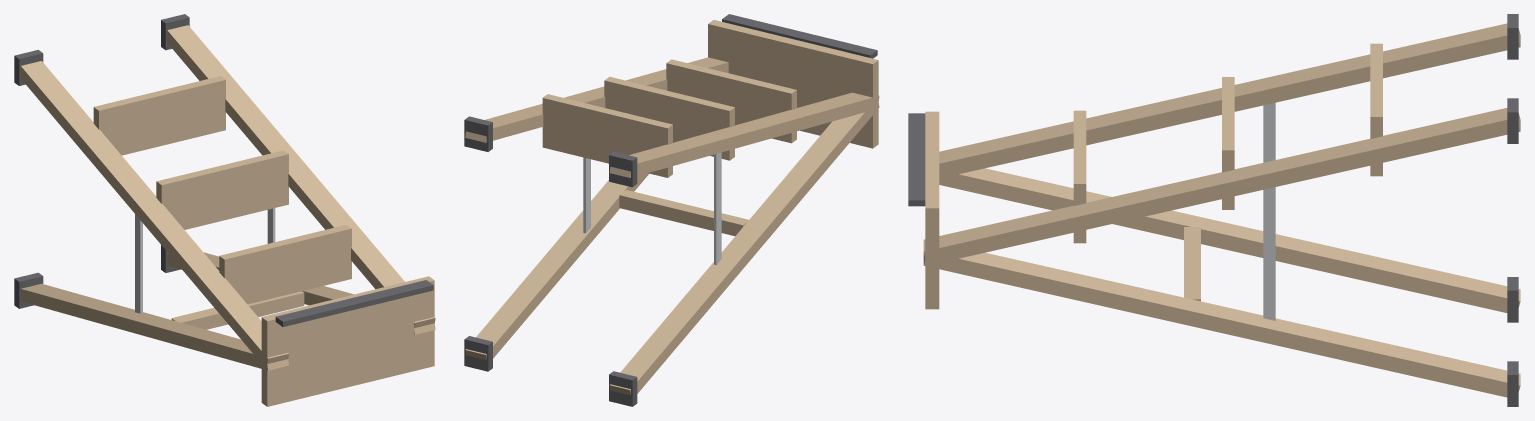
Rendered from step_ladder.glb.
The picture shows the model from 3 angles, left to right: view 1: azimuth 30°, elevation 25°; view 2: azimuth 150°, elevation 25°; view 3: azimuth 270°, elevation 25°; orthographic projection. The views are drawn at different scales.
Visible parts, largest first — view 1: wood, metal_black, steel; view 2: wood, metal_black, steel; view 3: wood, metal_black, steel.
Boxes of the visible parts, x1,y1,x2,y2 form: wood: (20, 25, 435, 406); metal_black: (14, 14, 433, 326); steel: (135, 208, 275, 313); wood: (465, 20, 879, 395); metal_black: (464, 14, 877, 406); steel: (583, 152, 721, 265); wood: (923, 23, 1520, 397); metal_black: (908, 14, 1518, 406); steel: (1263, 102, 1275, 320).
Size of the model in its own units: 0.4075 by 0.5702 by 1.07.
